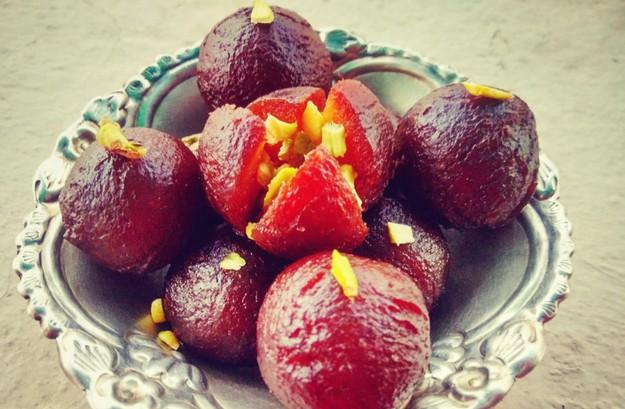GulabJamun: (195, 77, 402, 243), (256, 250, 426, 409), (60, 116, 199, 276), (399, 83, 542, 229), (161, 236, 272, 371), (194, 5, 342, 98)
